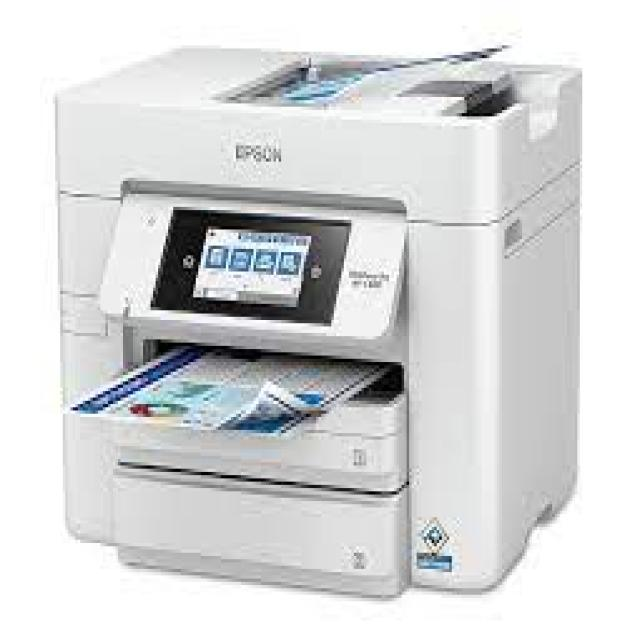printer: (24, 21, 606, 615)
